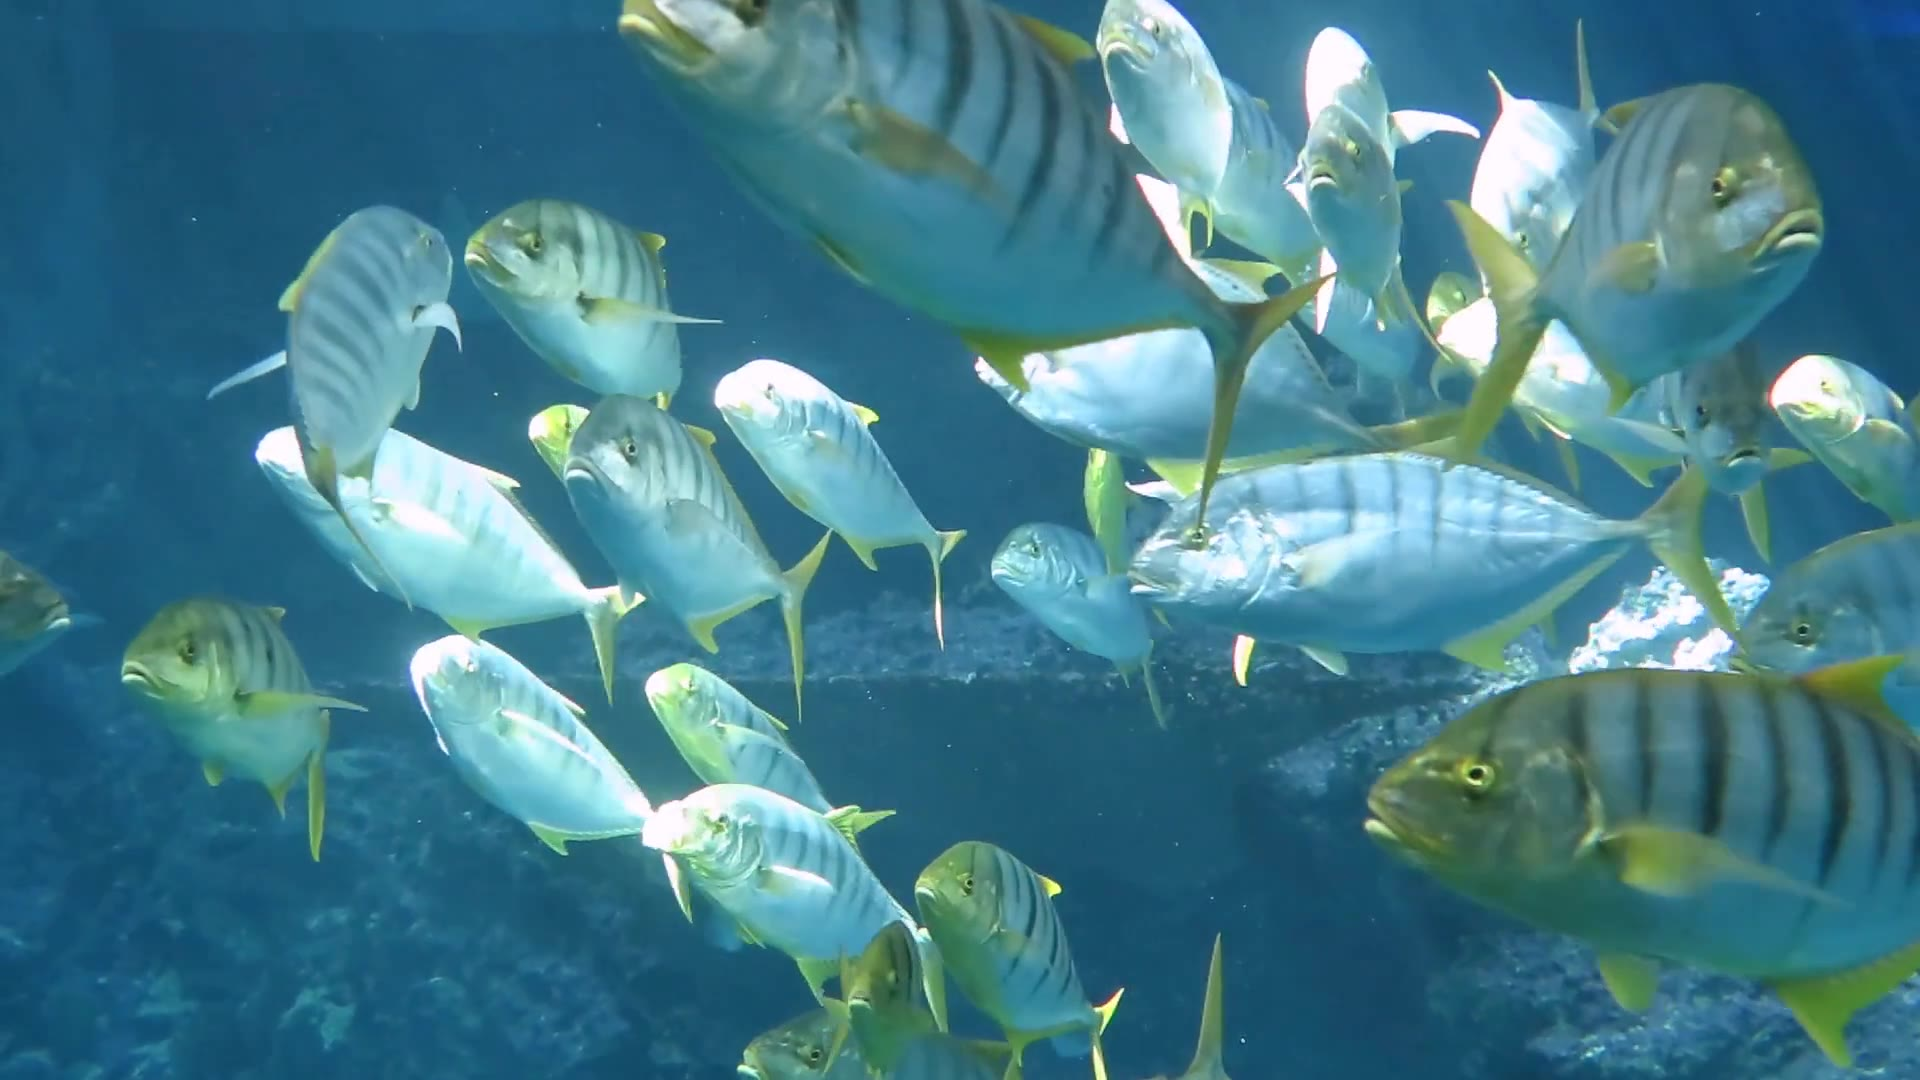Gnathanodon speciosus: (1375, 694, 1920, 990), (1141, 433, 1745, 651), (1447, 117, 1847, 389), (1532, 94, 1822, 385), (555, 419, 816, 661), (381, 615, 649, 847), (133, 613, 384, 858), (736, 357, 963, 611), (463, 179, 711, 398), (632, 785, 898, 955), (913, 825, 1098, 1048), (1092, 11, 1249, 214), (982, 481, 1145, 669), (644, 634, 815, 793), (1302, 129, 1419, 299)
